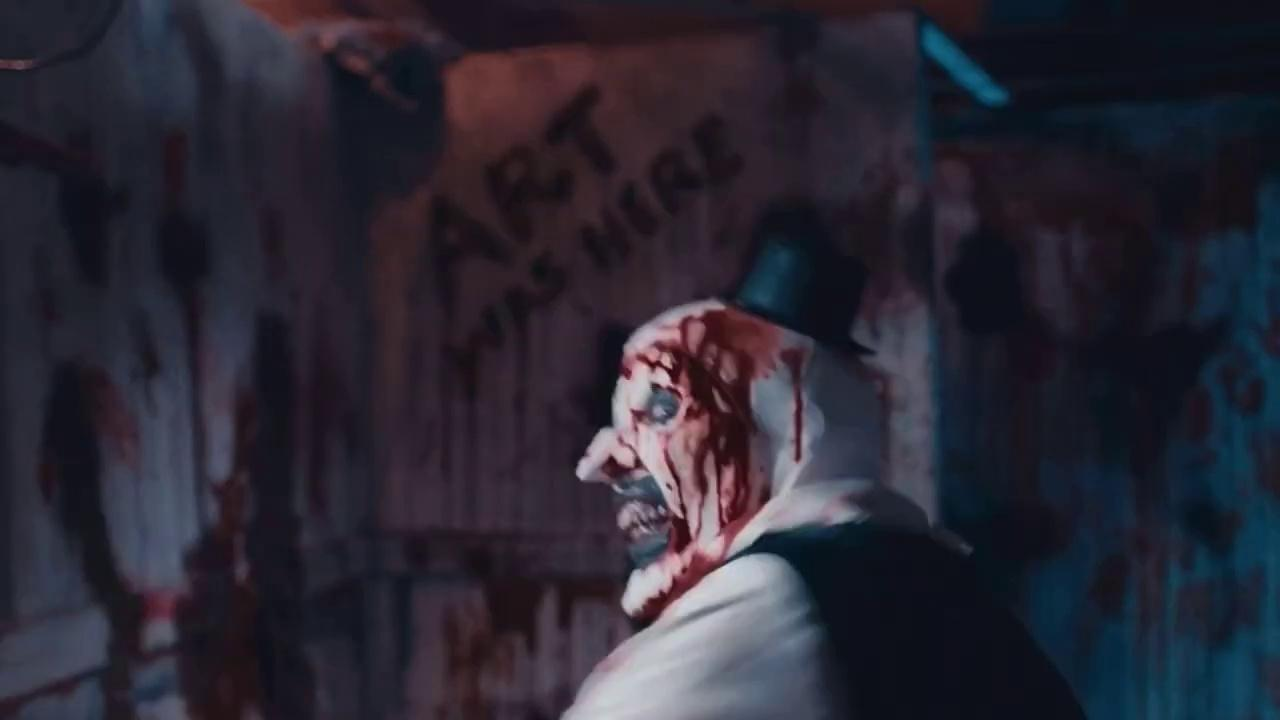Fire: (933, 100, 1280, 720), (577, 293, 945, 621), (161, 212, 306, 720), (46, 363, 131, 720), (0, 122, 140, 331), (441, 535, 595, 720)
